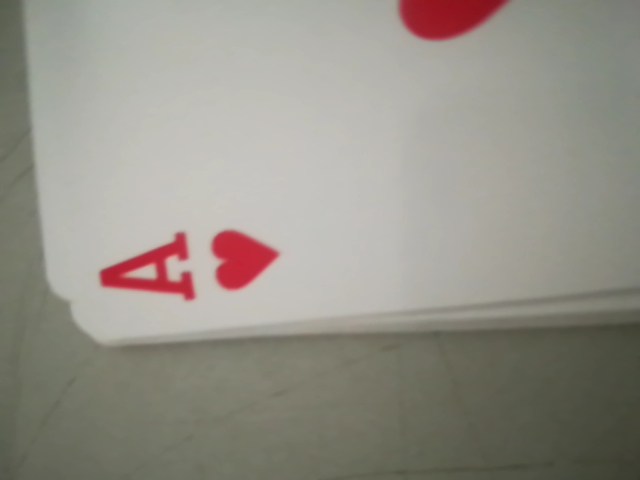hx a: (92, 190, 305, 343)
